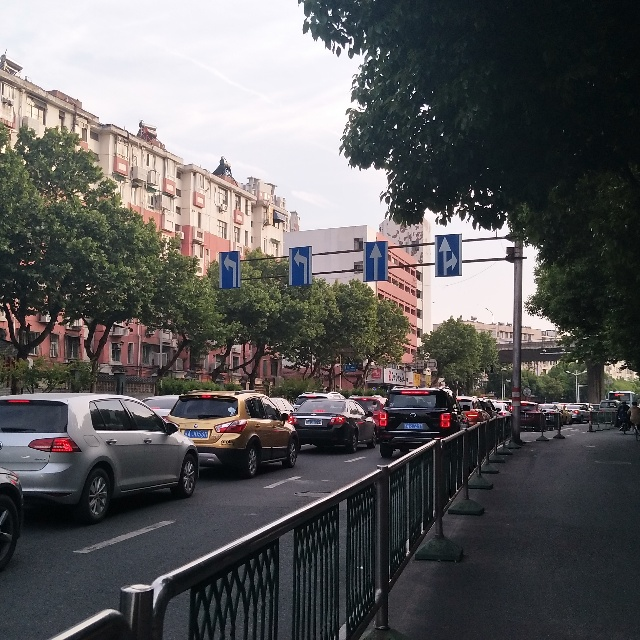left: (219, 254, 237, 291), (291, 250, 310, 285)
straight: (365, 239, 388, 282)
